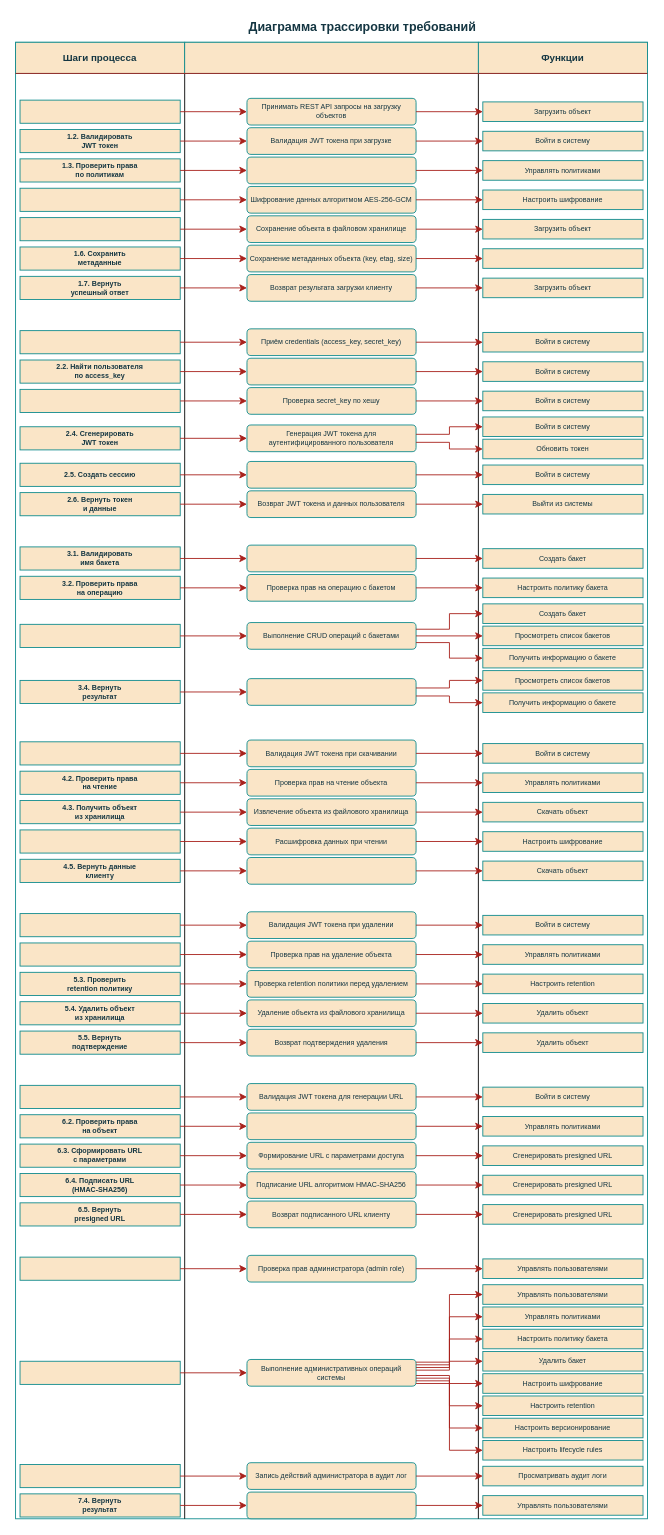
The diagram is 664 pixels wide and 1535 high, and some of its shapes have lost their labels. The box of each missing label's shape, as (x1, y1, x2, y2) in pixels:
1.1. Отправить запрос на загрузку: (19, 99, 180, 123)
1.4. Зашифровать данные (AES-256): (19, 187, 180, 211)
1.5. Сохранить объект в хранилище: (19, 217, 180, 241)
2.1. Отправить credentials: (19, 330, 180, 354)
2.3. Проверить secret_key (hash): (19, 388, 180, 413)
3.3. Выполнить операцию с бакетом: (19, 623, 180, 647)
4.1. Валидировать JWT токен: (19, 741, 180, 765)
4.4. Расшифровать данные: (19, 829, 180, 853)
5.1. Валидировать JWT токен: (19, 913, 180, 937)
5.2. Проверить права на удаление: (19, 942, 180, 966)
6.1. Валидировать JWT токен: (19, 1084, 180, 1108)
7.1. Проверить права администратора: (19, 1256, 180, 1280)
7.2. Выполнить админ операцию: (19, 1360, 180, 1384)
7.3. Записать в аудит лог: (19, 1464, 180, 1488)
Валидация имени бакета по правилам: (246, 544, 416, 572)
Возврат данных объекта клиенту: (246, 857, 416, 884)
Возврат результата административной операции: (246, 1491, 416, 1519)
Возврат результата операции с бакетом: (246, 678, 416, 705)
Поиск пользователя по access_key в БД: (246, 357, 416, 385)
Получить информацию об объекте: (482, 248, 643, 268)
Проверка прав доступа на объект: (246, 1112, 416, 1140)
Проверка прав доступа по политикам: (246, 156, 416, 184)
Создание сессии пользователя: (246, 461, 416, 488)
Требования: (184, 41, 478, 73)
